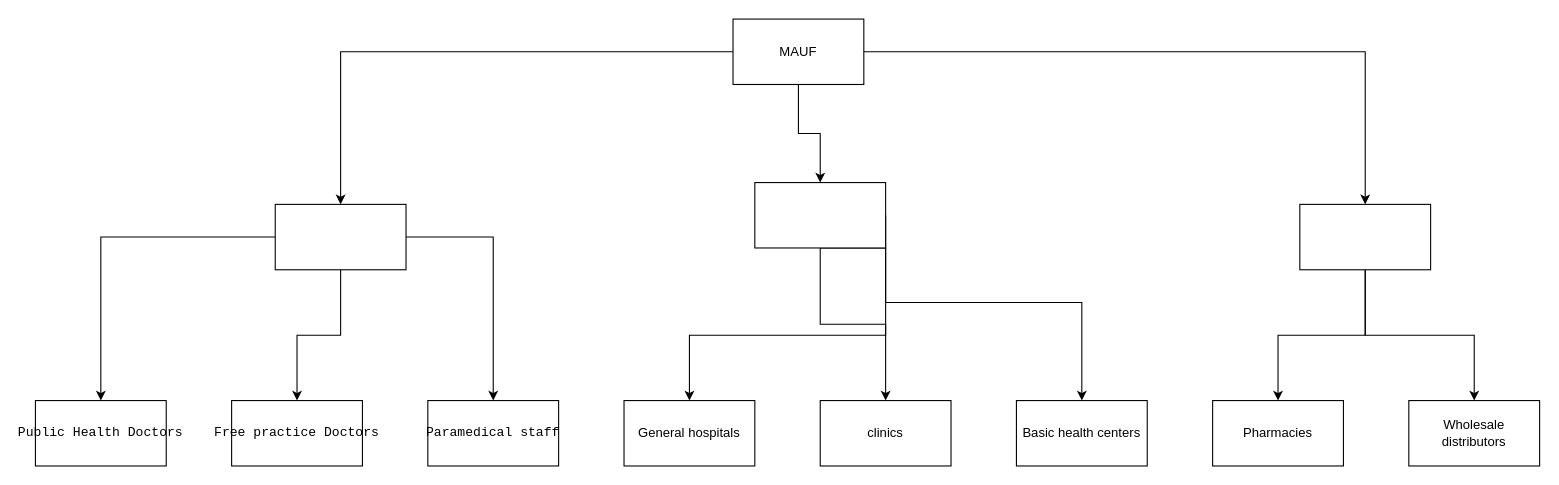
The diagram is 1559 pixels wide and 485 high, and some of its shapes have lost their labels. The box of each missing label's shape, as (x1, y1, x2, y2) in pixels:
Access to facilities: (754, 181, 886, 248)
Access to medicine: (1299, 203, 1431, 270)
Access to professionals: (274, 203, 406, 270)
